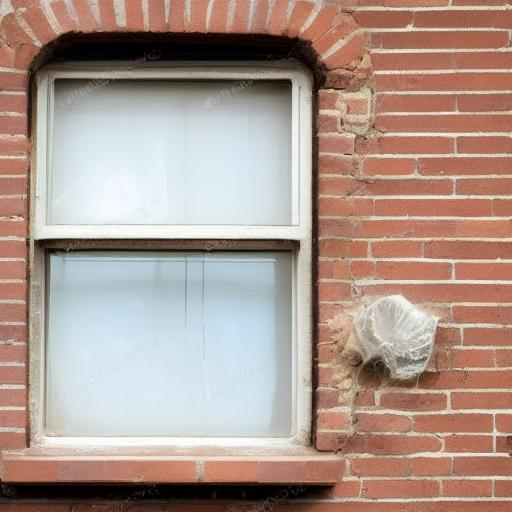Window: (3, 1, 371, 494)
